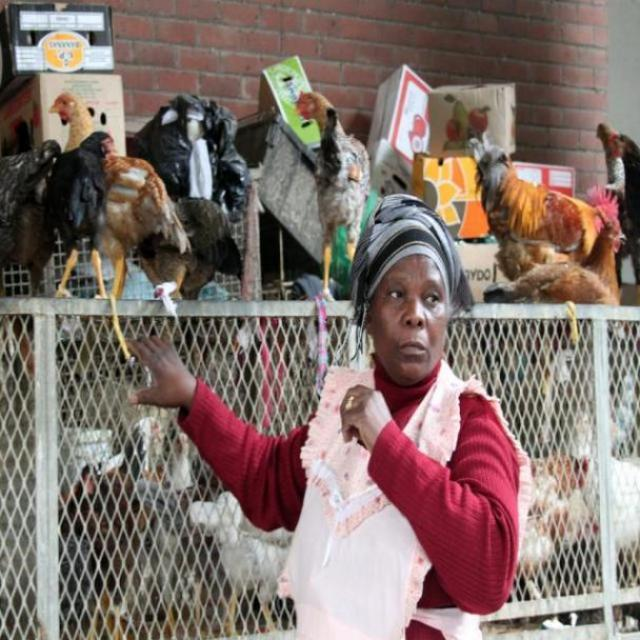Chicken: (53, 412, 296, 639), (46, 88, 195, 297), (512, 399, 640, 607), (480, 199, 628, 364), (462, 130, 618, 283), (292, 85, 374, 301), (40, 126, 119, 303), (135, 196, 245, 305), (562, 434, 640, 575), (0, 133, 66, 298), (592, 119, 630, 283), (101, 405, 174, 486), (605, 133, 640, 285)
